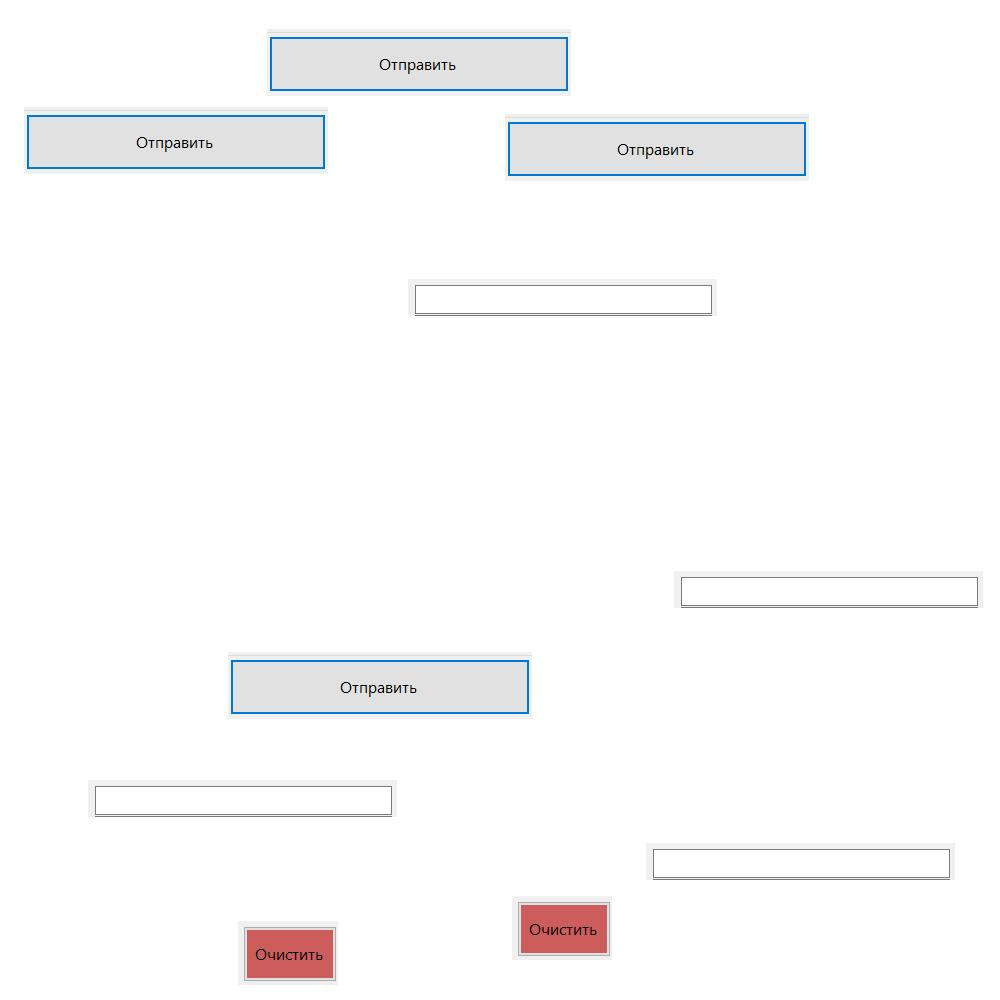Button: (24, 107, 328, 174), (228, 652, 532, 719), (267, 29, 571, 96), (505, 114, 809, 181), (512, 896, 612, 960), (238, 921, 338, 985)
EditText-: (646, 843, 955, 880), (88, 780, 397, 817), (408, 279, 717, 316), (674, 571, 983, 608)
